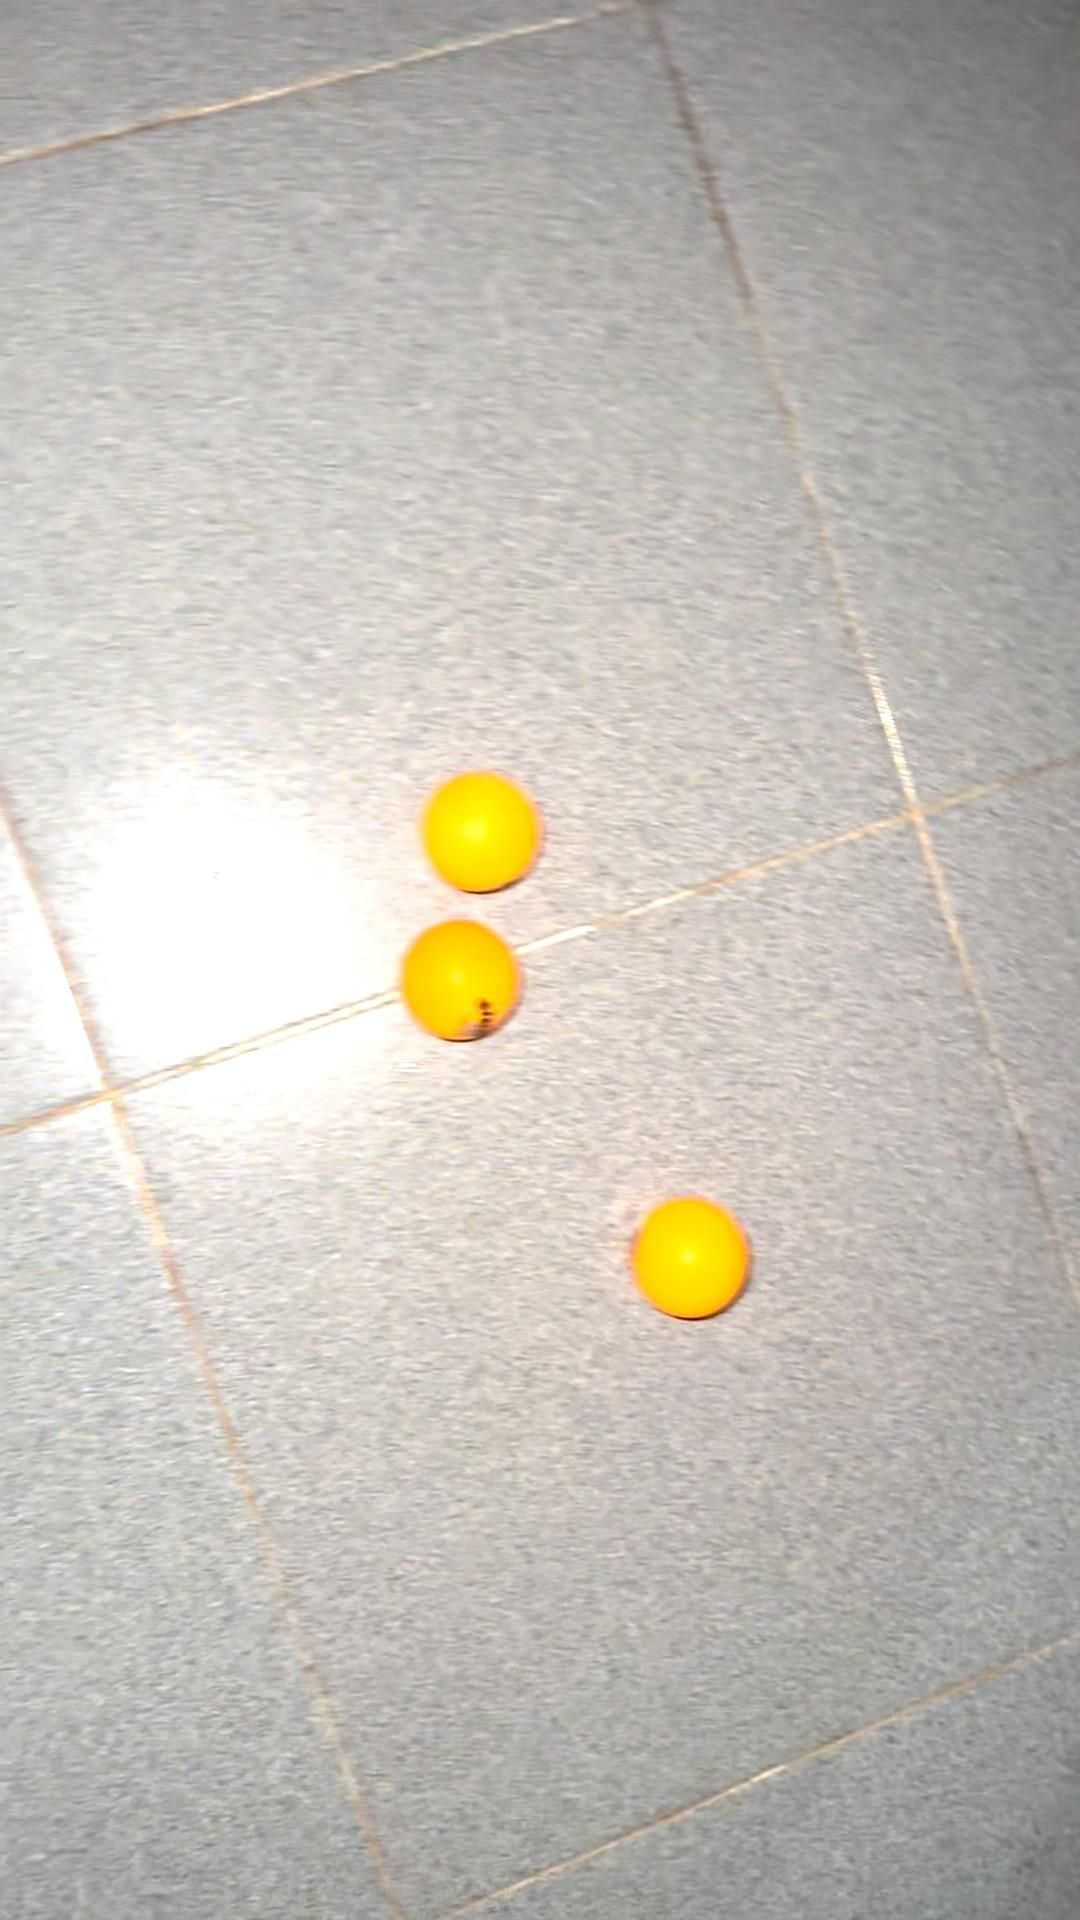oball: (611, 1184, 769, 1328), (414, 758, 559, 902), (401, 911, 530, 1059)
